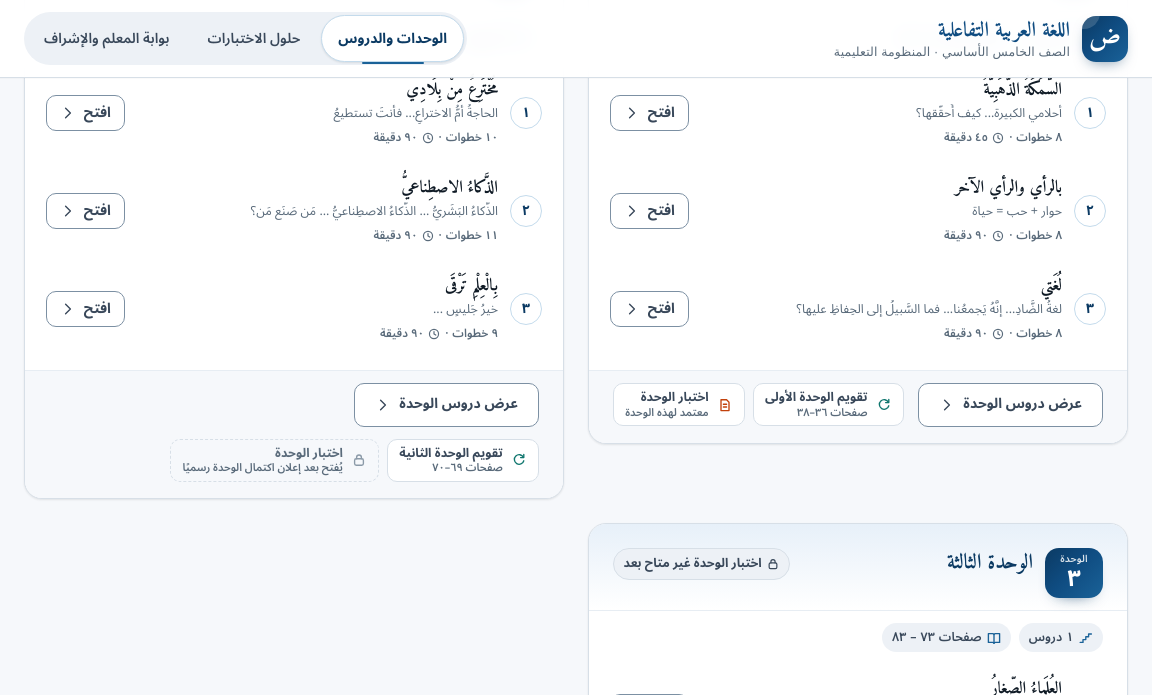
Test case: PR1 — assessment draft guard on app navigation › leaves directly once the final save attempt succeeds
The width and height of the screenshot is (1152, 695).
(page scrolled)
Step 1. Click the button with aria-label "عرض دروس الوحدة الأولى" → (1011, 405), box [918,383,1103,427]
(page scrolled)
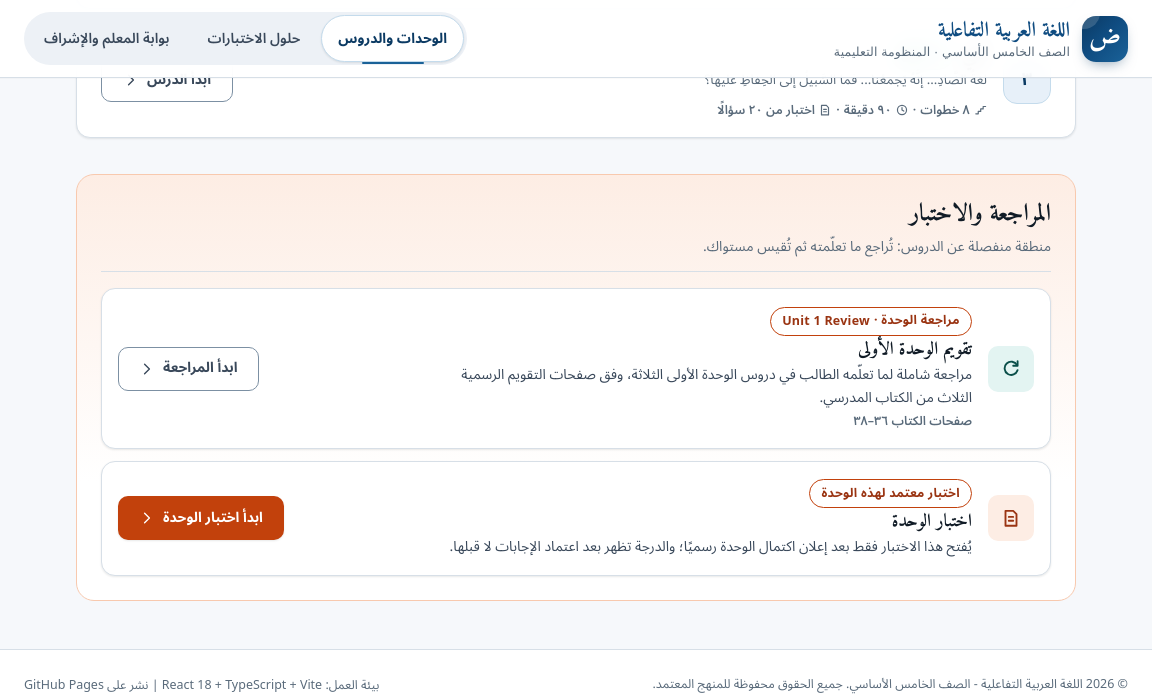
Step 2. Click the button "ابدأ اختبار الوحدة" → (201, 518), box [118,496,284,540]
(page scrolled)
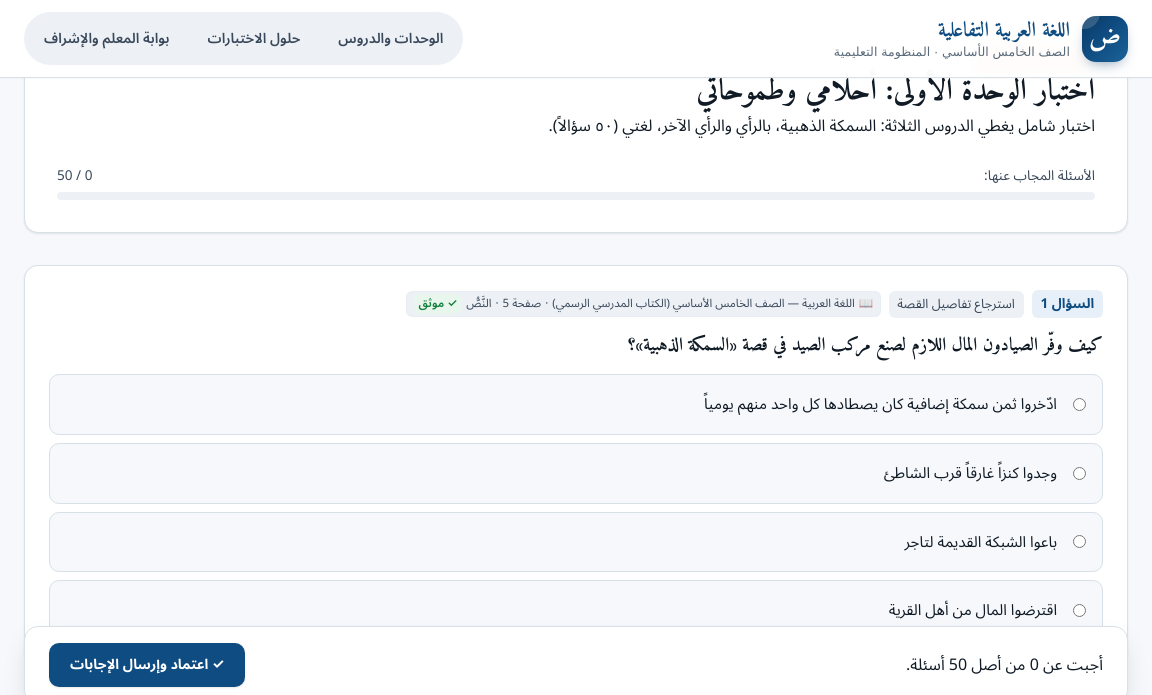
Step 3. Click the radio button labelled "ادّخروا ثمن سمكة إضافية كان يصطادها كل واحد منهم يومياً" → (1080, 405), box [1073,398,1086,411]
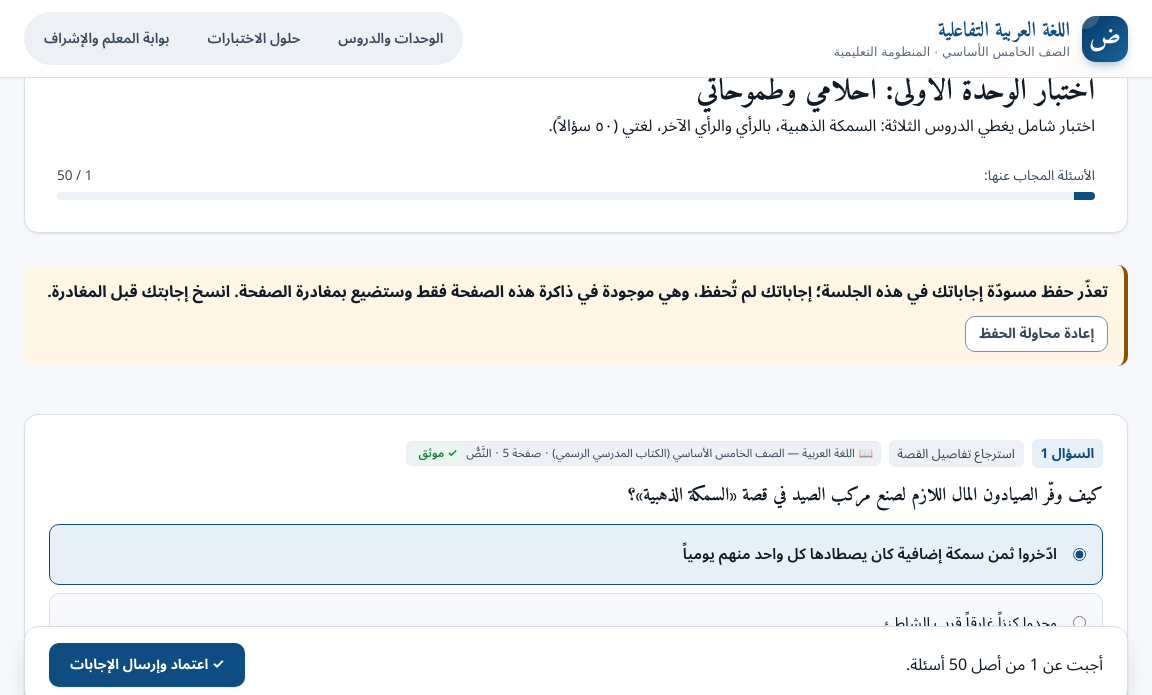
Step 4. Click the button "اللغة العربية التفاعلية" → (981, 38), box [834,16,1128,62]
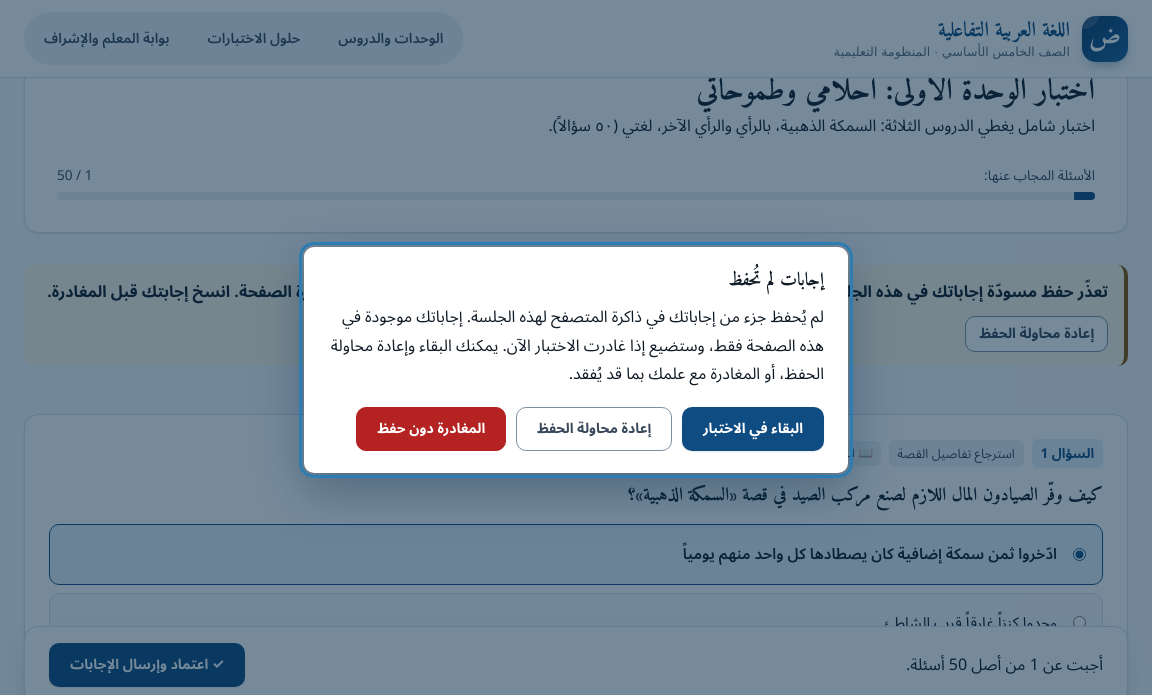
Step 5. Click the button "إعادة محاولة الحفظ" → (594, 429), box [516,407,672,451]
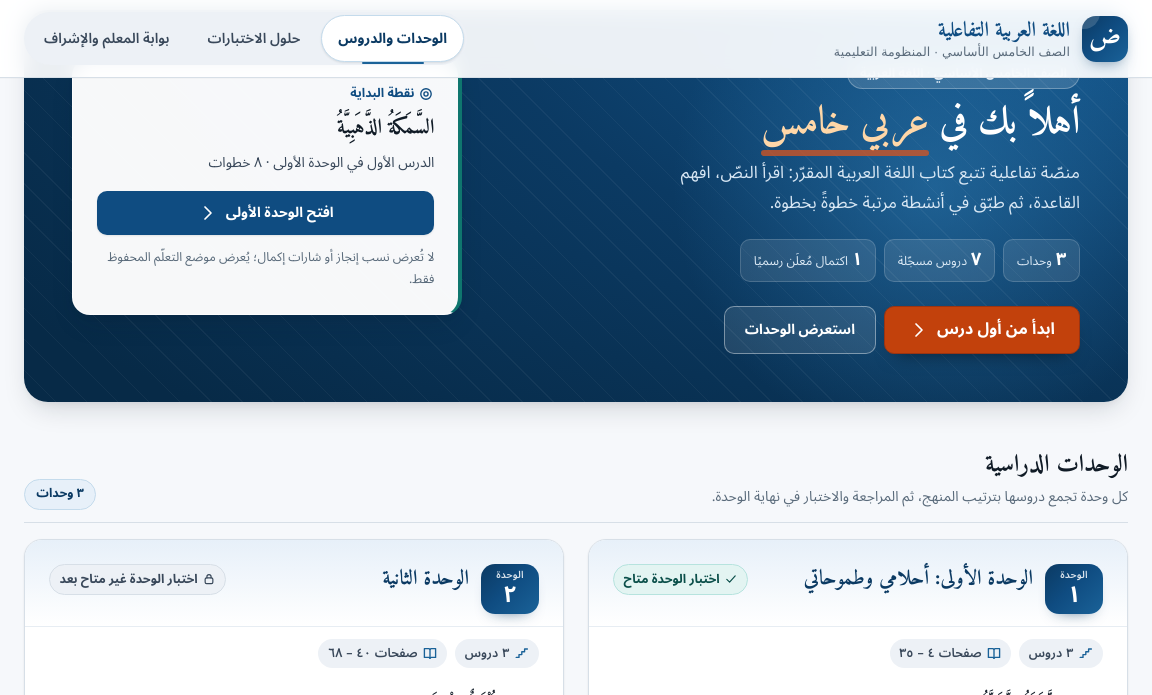
Result: the dialog is gone
Result: the button "ابدأ من أول درس" is shown at [884,306,1080,354]
